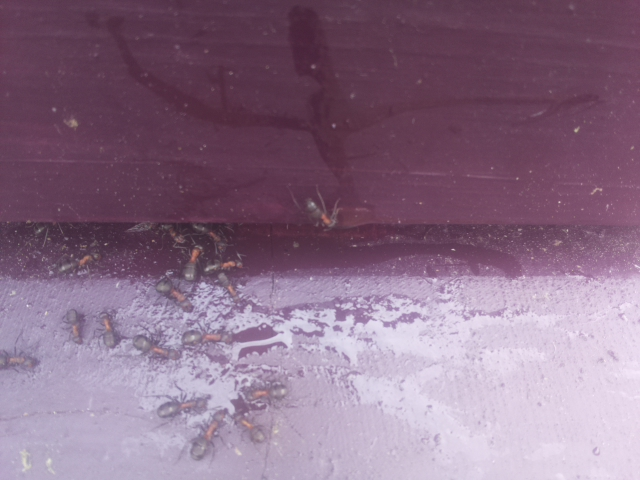ant: (184, 395, 232, 472), (147, 264, 201, 324), (298, 185, 345, 240), (124, 330, 185, 368), (229, 404, 273, 451), (150, 392, 212, 422), (177, 326, 241, 349), (179, 238, 209, 287), (52, 250, 106, 276), (212, 270, 246, 309), (245, 380, 296, 405), (59, 304, 87, 347), (96, 306, 121, 352), (0, 348, 40, 371), (198, 256, 244, 273)
